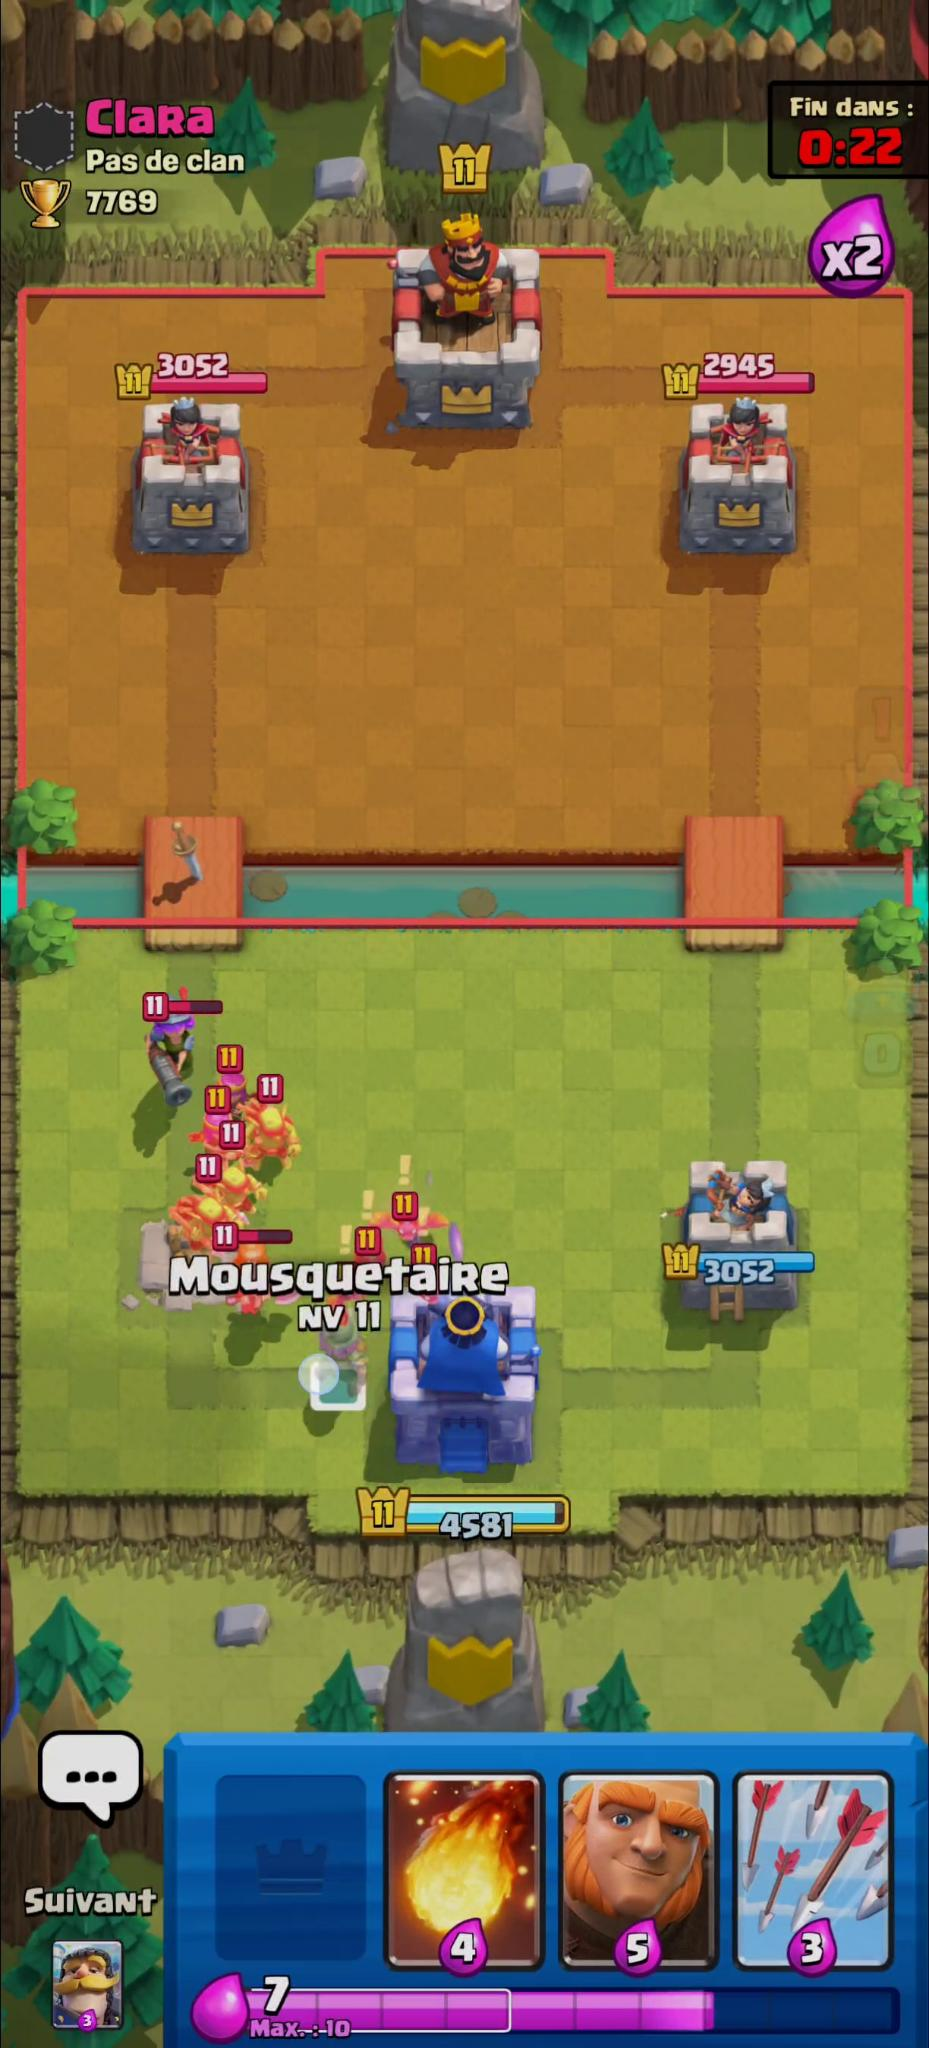archere: (191, 1109, 243, 1165), (216, 1071, 255, 1115)
bat: (368, 1211, 452, 1243)
gobelin_lances: (243, 1096, 304, 1176), (171, 1191, 243, 1254), (196, 1164, 268, 1223)
mousquetaire: (144, 1011, 204, 1112)
valkyrie: (225, 1242, 302, 1318)
